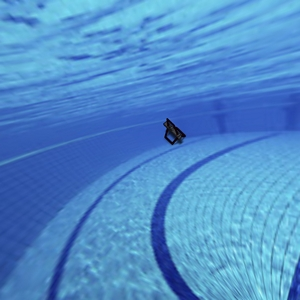submarine: (139, 102, 199, 161)
